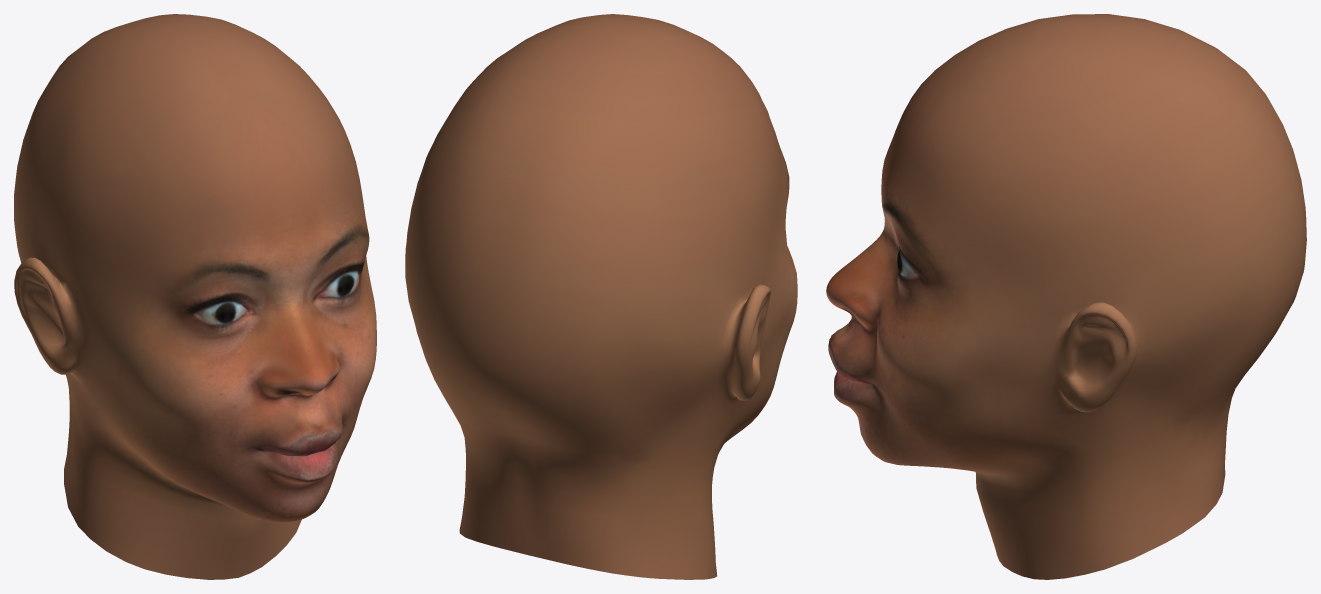
Rendered from v332_obj_PhonemeW.obj.
The picture shows the model from 3 angles, left to right: view 1: azimuth 30°, elevation 25°; view 2: azimuth 150°, elevation 25°; view 3: azimuth 270°, elevation 25°; orthographic projection. The views are drawn at different scales.
Visible parts, largest first — view 1: HeadHires; view 2: HeadHires; view 3: HeadHires.
Part boxes in pixels (x1=…): HeadHires: x1=14, y1=14, x2=376, y2=579; HeadHires: x1=405, y1=14, x2=797, y2=579; HeadHires: x1=826, y1=14, x2=1306, y2=579.
Bounding box in the file's own units: 187 × 282 × 233.
